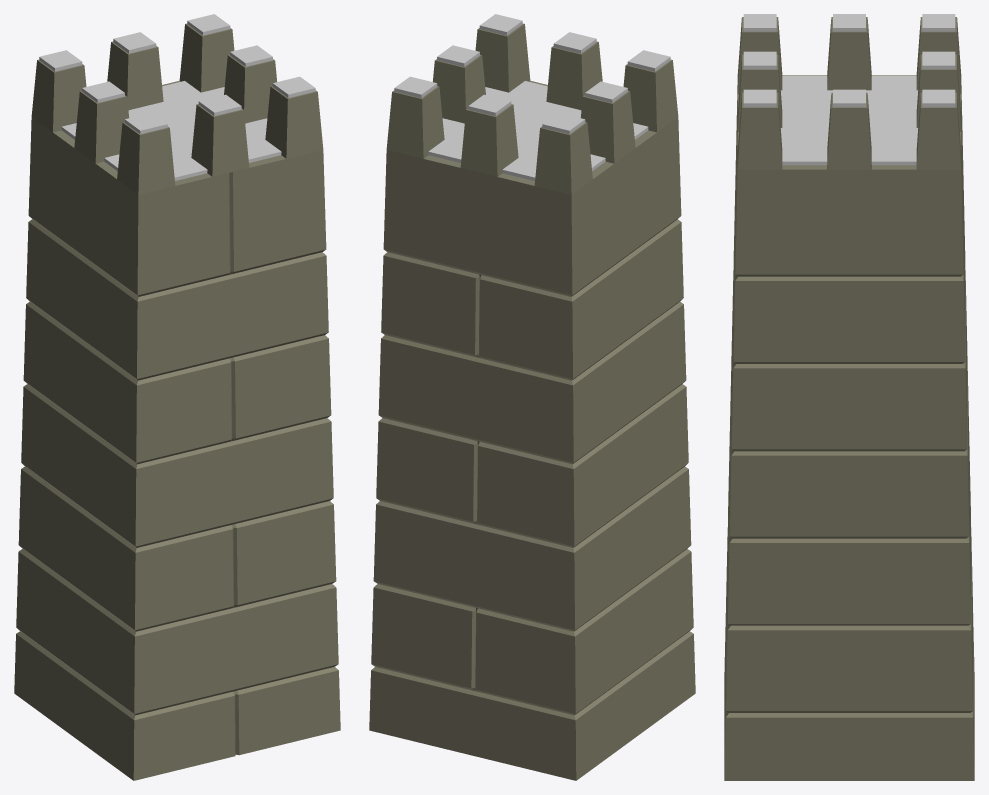
File: Wall_Tower_snow_mat.fbx
The picture shows the model from 3 angles, left to right: view 1: azimuth 30°, elevation 25°; view 2: azimuth 150°, elevation 25°; view 3: azimuth 270°, elevation 25°; orthographic projection. The views are drawn at different scales.
Parts seen in each view (by area): view 1: Wall_Tower_snow_mat; view 2: Wall_Tower_snow_mat; view 3: Wall_Tower_snow_mat.
Part boxes in pixels (x1,y1,x2,y2): Wall_Tower_snow_mat: [14, 14, 340, 780]; Wall_Tower_snow_mat: [369, 14, 695, 780]; Wall_Tower_snow_mat: [724, 14, 974, 780].
Bounding box in the file's own units: 122 × 360 × 122.
